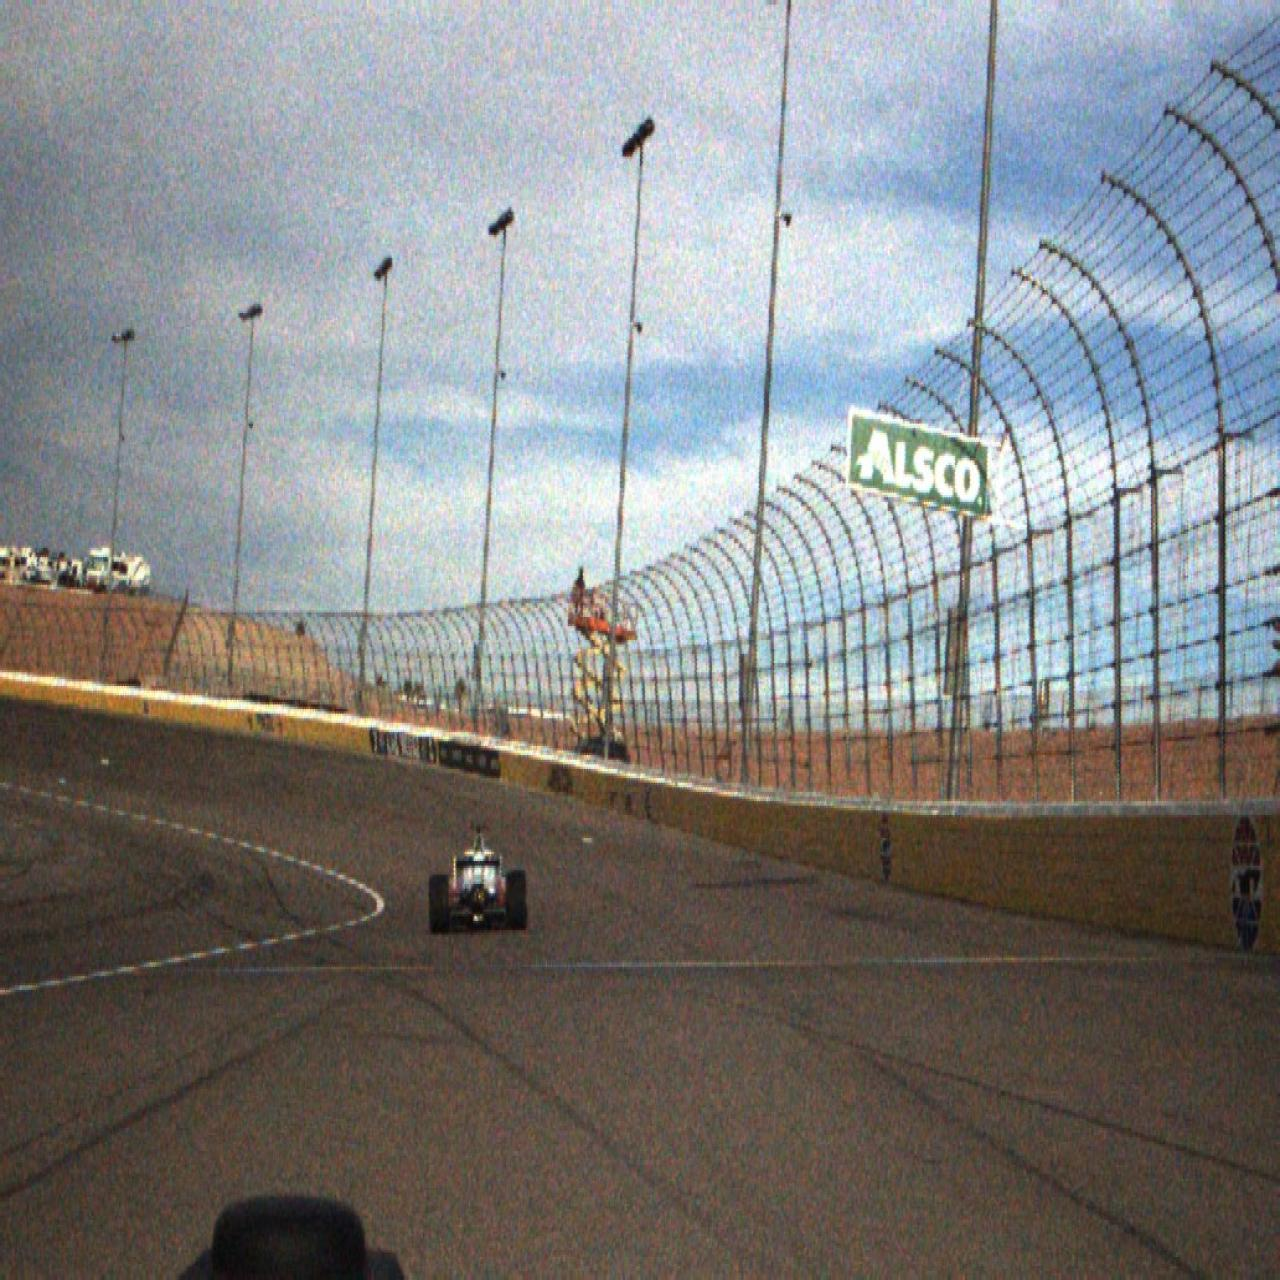AV: (429, 824, 527, 934)
Wheel: (429, 874, 450, 934), (506, 870, 527, 930)
